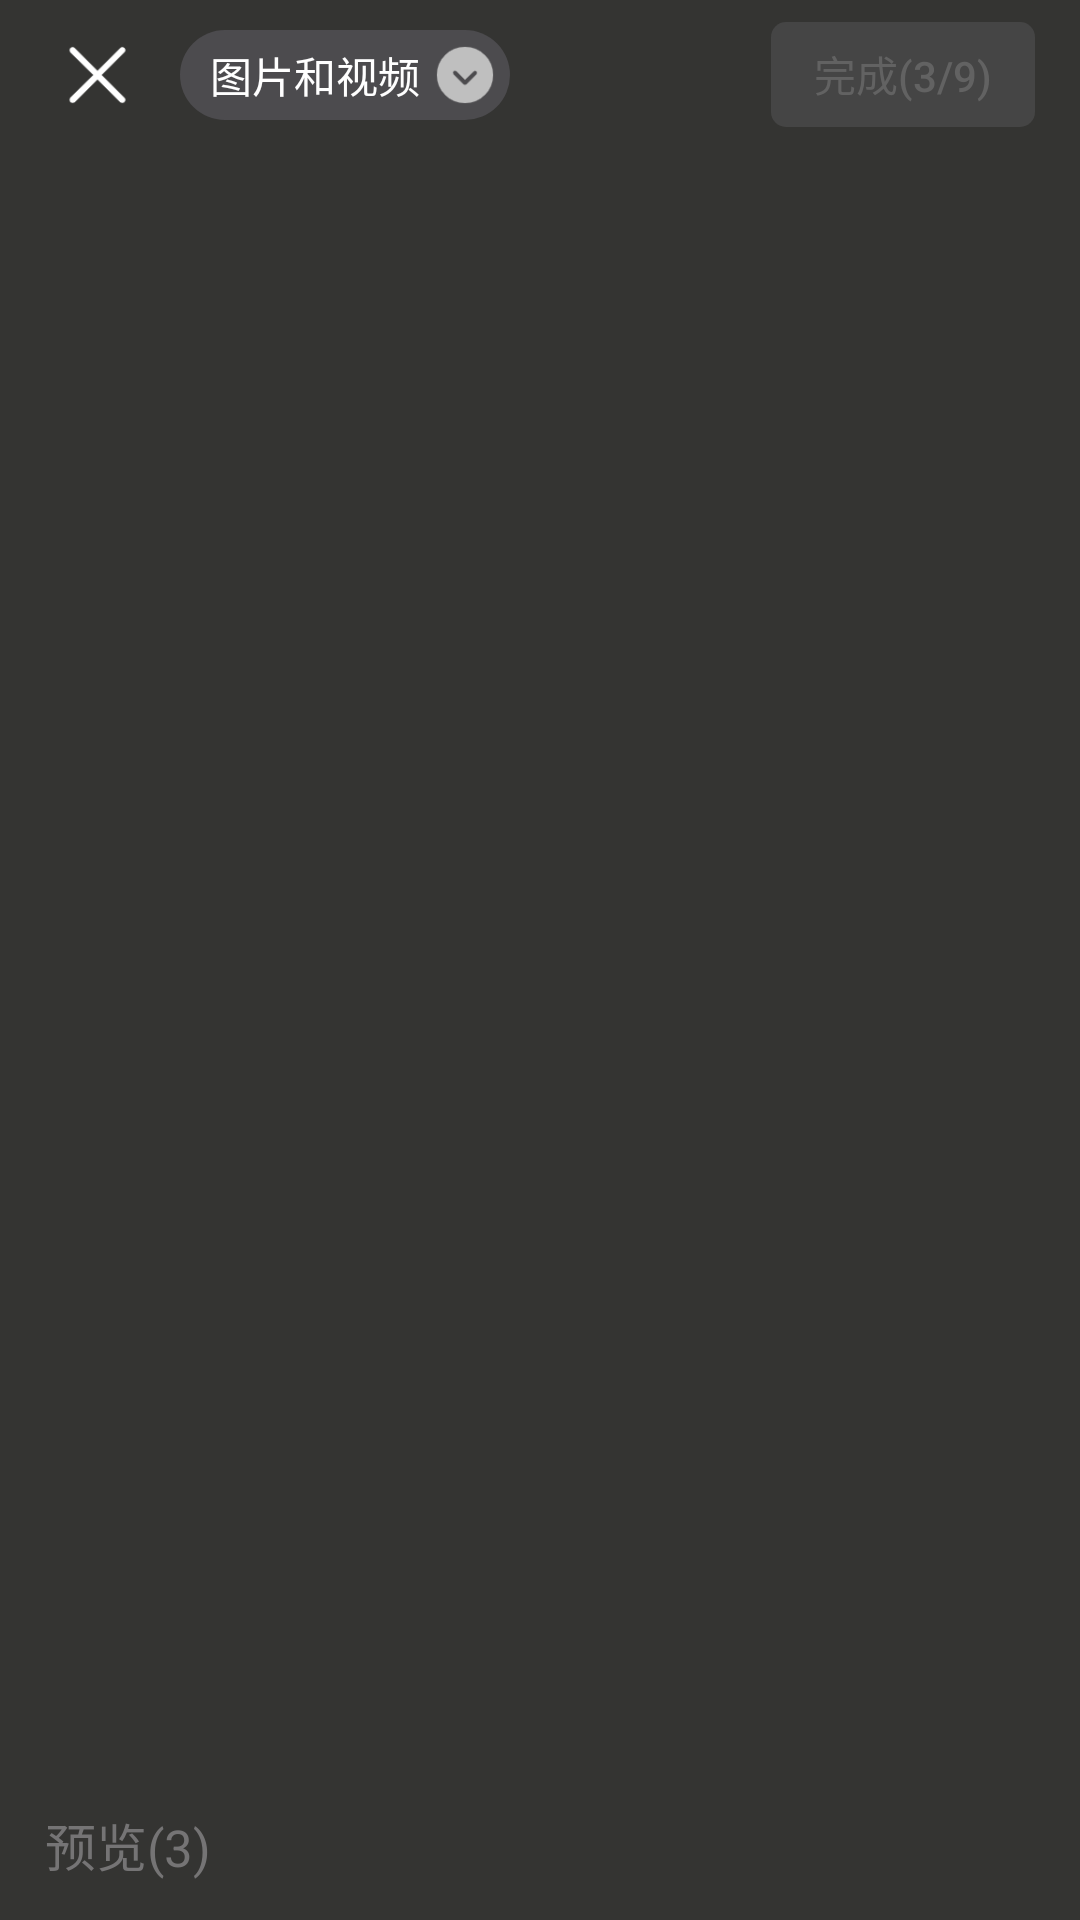

Screen size 1080px x 1920px. Icon name, then its box in pixels as BBox(x1, y1, x2, y2):
photo picker arrow: BBox(437, 47, 493, 103)
photo picker close: BBox(69, 47, 126, 103)
